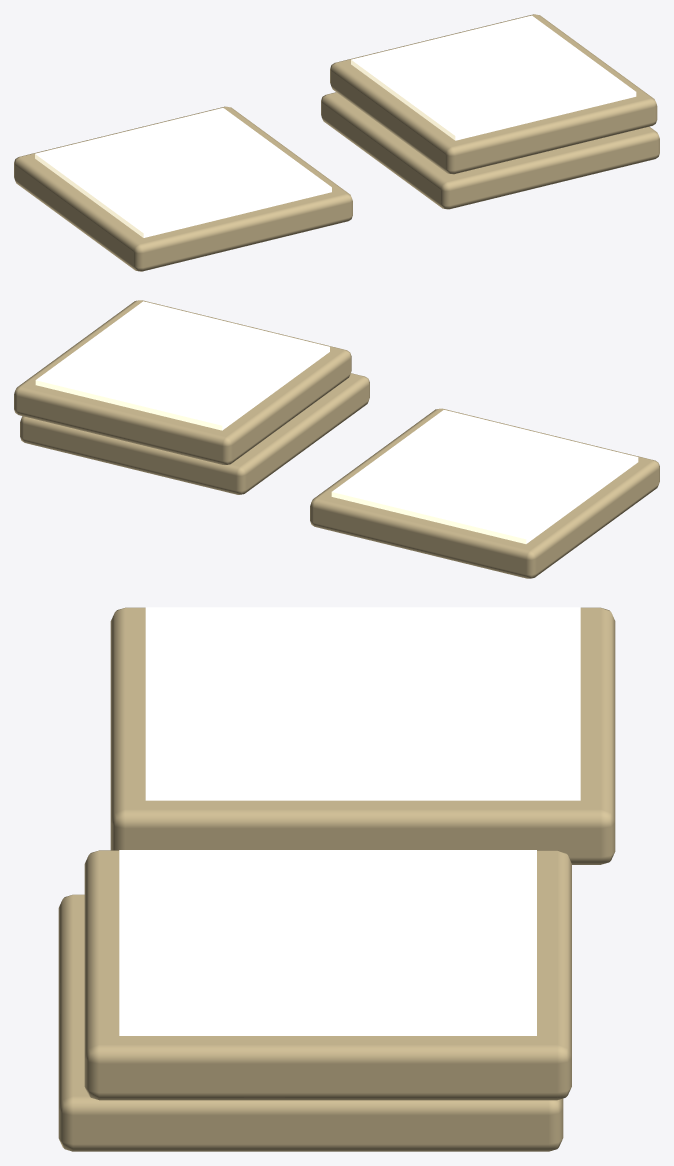
File: korean-hanok-village-and-street-floor-cushion-set-dc9c83b9__38065.glb
3 renders of one model, top to bottom at view 1: azimuth 30°, elevation 25°; view 2: azimuth 150°, elevation 25°; view 3: azimuth 270°, elevation 25°, orthographic. The views are drawn at different scales.
Visible parts, largest first — view 1: floor-cushion-set; view 2: floor-cushion-set; view 3: floor-cushion-set.
Part boxes in pixels (x1=…): floor-cushion-set: x1=14, y1=14, x2=659, y2=271; floor-cushion-set: x1=14, y1=300, x2=659, y2=578; floor-cushion-set: x1=58, y1=607, x2=615, y2=1151.
Size of the model in its own units: 1.37 by 0.152 by 0.6399.
